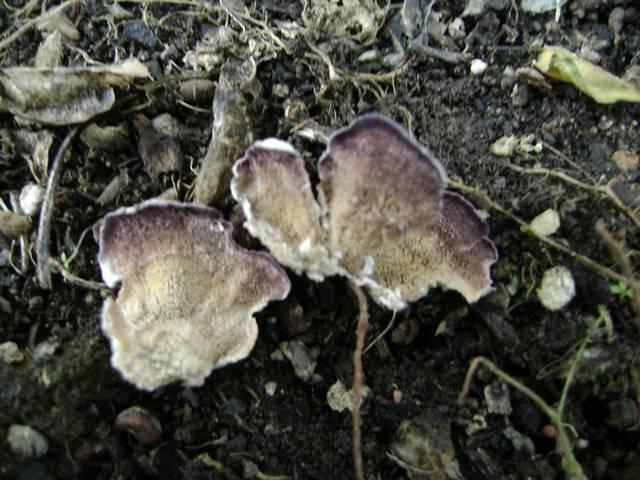Non-edible Mushroom: (208, 103, 523, 327), (93, 196, 291, 392)
